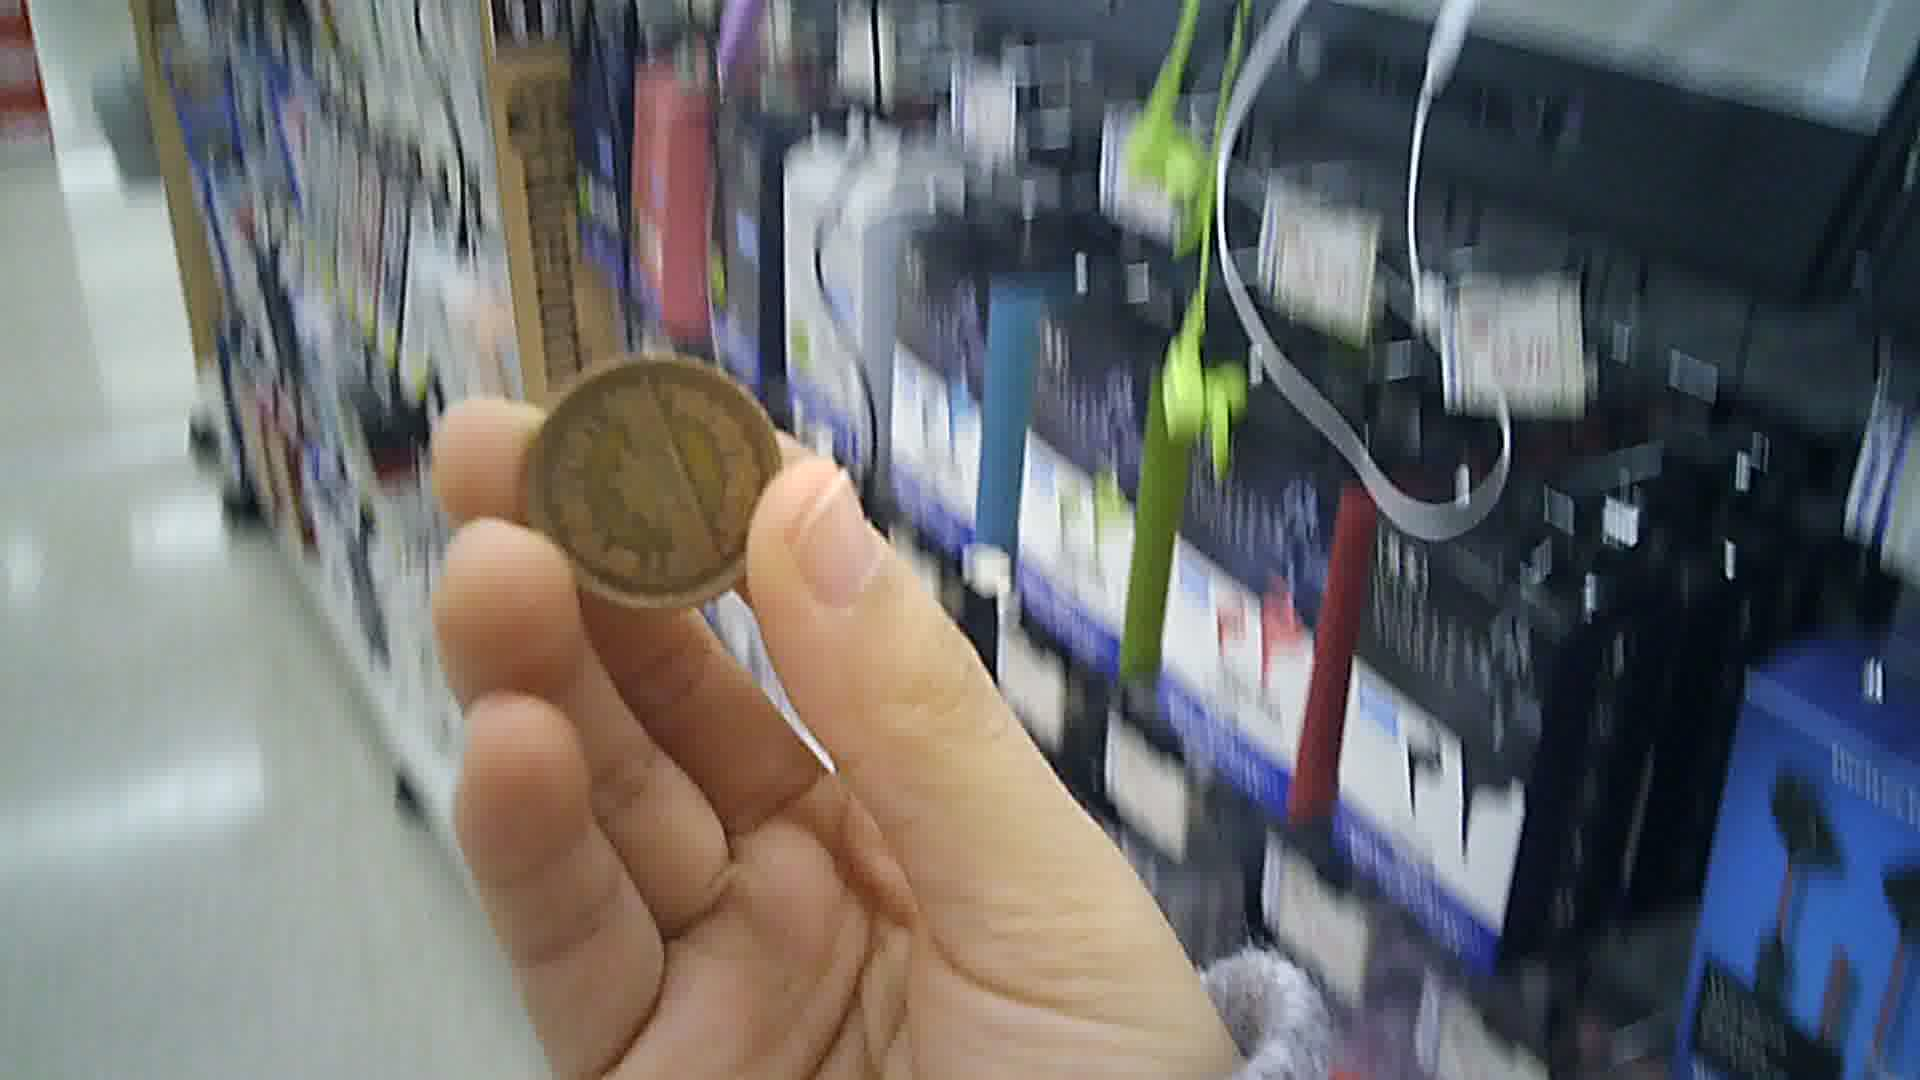10 Yen: (530, 353, 794, 604)
